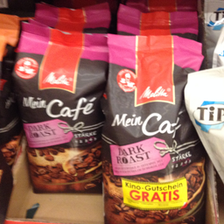coffee: (103, 33, 204, 224), (12, 18, 108, 194)
